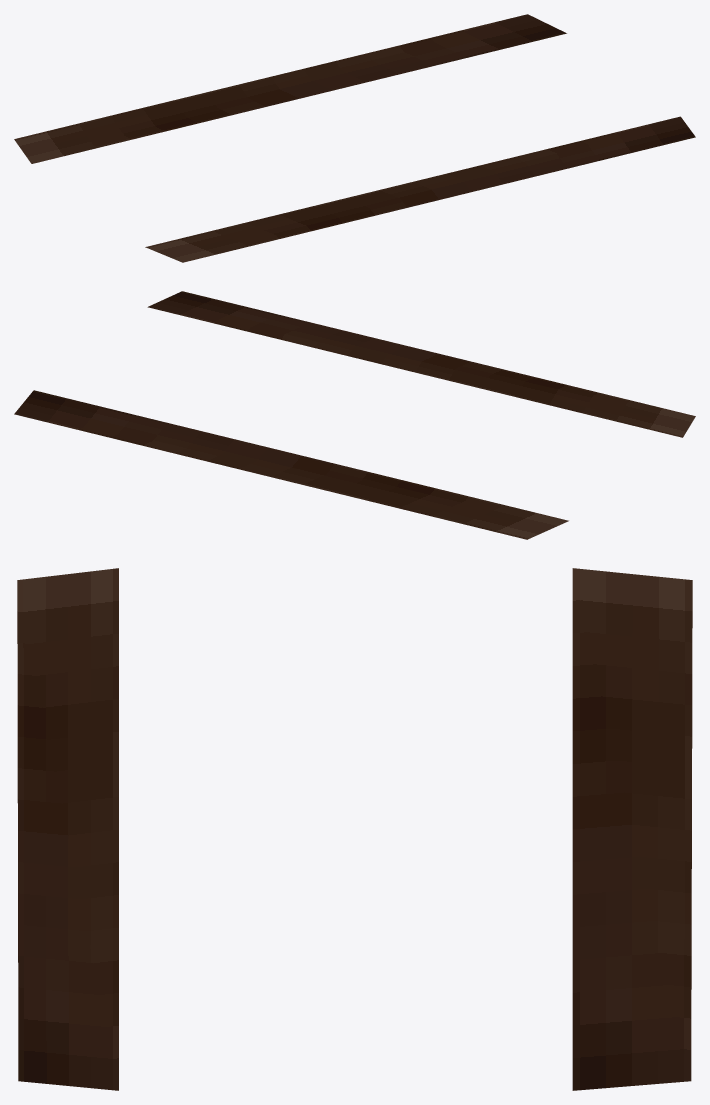
The model's file is english_d_footprint.fbx.
3 renders of one model, top to bottom at view 1: azimuth 30°, elevation 25°; view 2: azimuth 150°, elevation 25°; view 3: azimuth 270°, elevation 25°, orthographic. The views are drawn at different scales.
Parts seen in each view (by area): view 1: footprint; view 2: footprint; view 3: footprint.
Boxes of the visible parts, x1,y1,x2,y2 form: footprint: (14, 14, 695, 262); footprint: (14, 291, 695, 539); footprint: (17, 568, 692, 1090).
Bounding box in the file's own units: 2712 × 0.000241 × 1481.
Materials: 1 (1 with a texture image).
